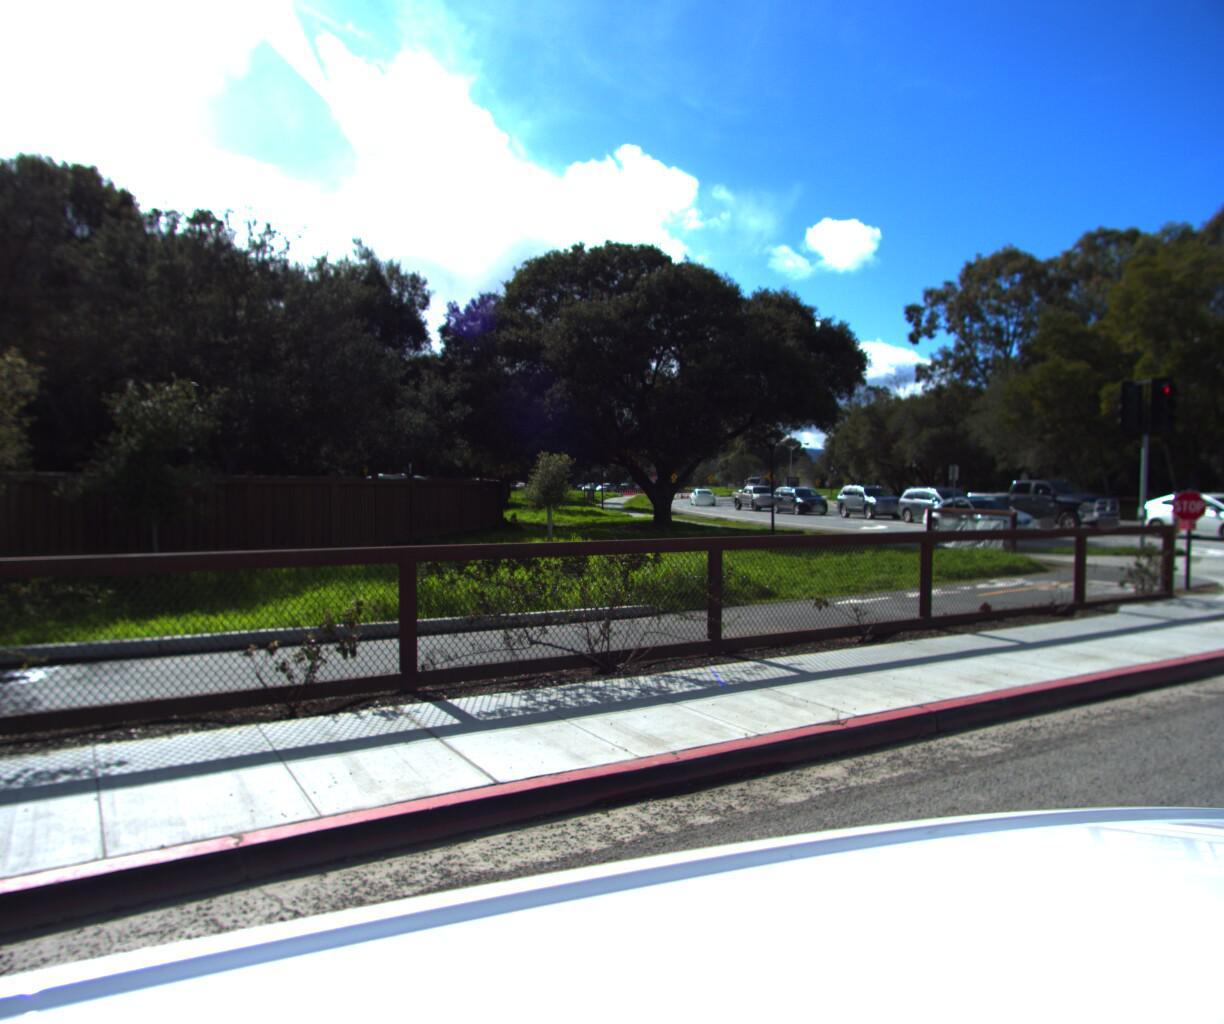car: (961, 471, 1134, 528), (917, 484, 1048, 533), (1136, 485, 1224, 537), (893, 479, 1001, 521), (833, 477, 914, 516), (767, 483, 834, 513), (728, 480, 786, 506), (687, 487, 718, 502)
